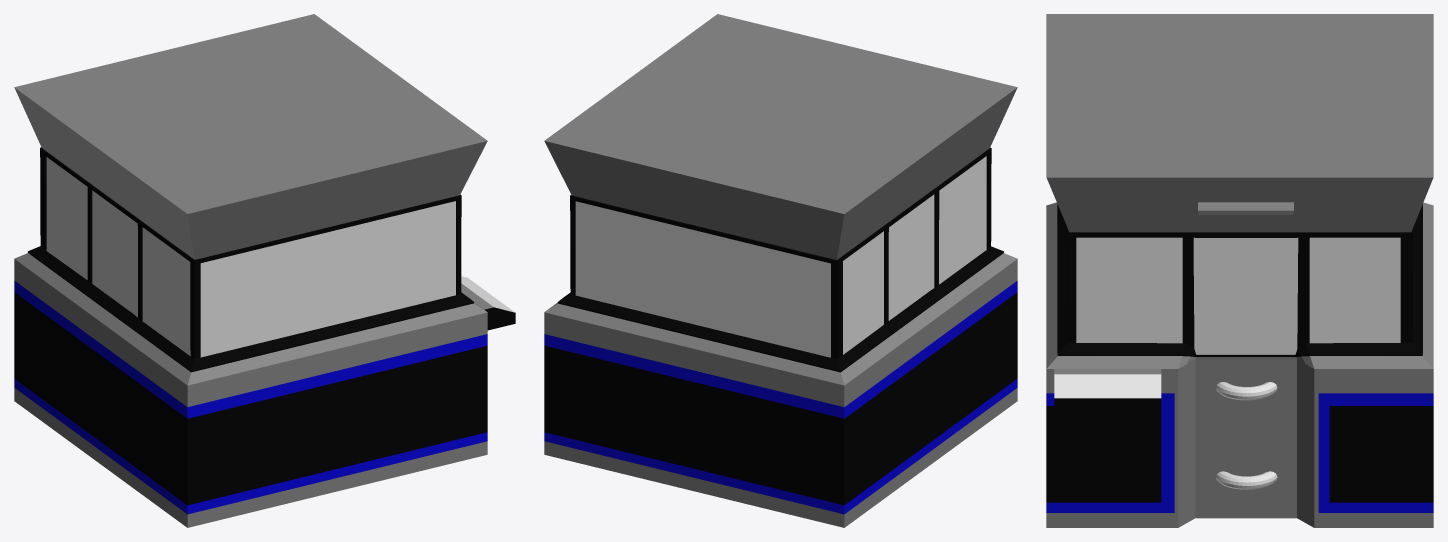
File: 3dprinter.fbx
3 views of the same model, side by side, from view 1: azimuth 30°, elevation 25°; view 2: azimuth 150°, elevation 25°; view 3: azimuth 270°, elevation 25° (orthographic). The views are drawn at different scales.
Parts seen in each view (by area): view 1: Cube; view 2: Cube; view 3: Cube, Torus.001, Torus.
Boxes of the visible parts, x1,y1,x2,y2 form: Cube: [14, 14, 515, 527]; Cube: [544, 14, 1017, 527]; Cube: [1046, 14, 1433, 527]; Torus.001: [1216, 471, 1277, 489]; Torus: [1216, 382, 1277, 400].
Size of the model in its own units: 552 by 499 by 500.
